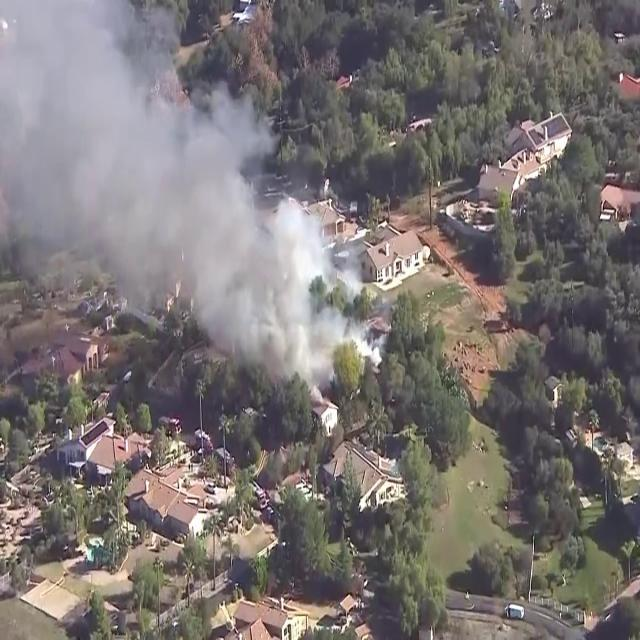Smoke: (0, 1, 347, 410)
